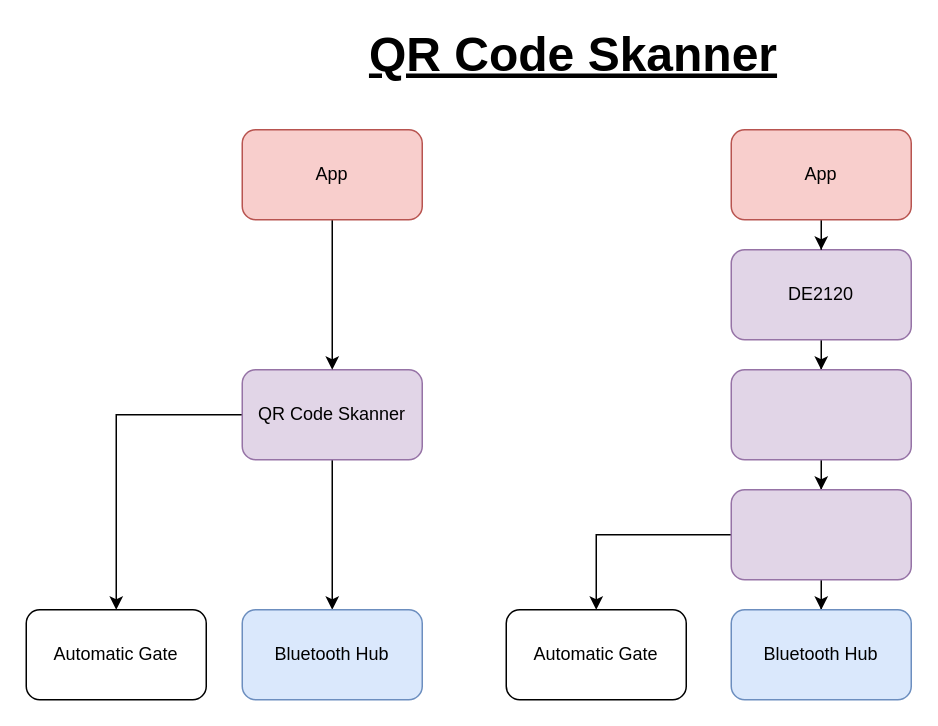
Some shapes in this 938 by 726 pixel diagram are drawn without their labels. The shapes that lost their labels are listed below. From the top down, each one's centre as x and y in pixels, then its label:
At [820,414]: "SparkFun 2D Barcode Scanner Breakout board".
At [820,534]: "ESP32".
